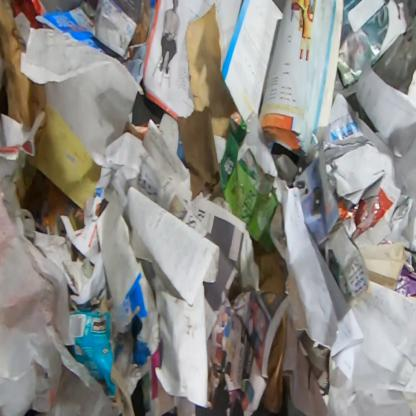cardboard: (217, 108, 279, 242), (69, 296, 136, 416), (185, 3, 237, 138), (0, 0, 46, 131), (33, 0, 108, 55), (260, 309, 288, 415), (92, 0, 140, 61), (250, 235, 288, 295)
soft_plastic: (0, 189, 124, 415), (341, 186, 395, 242), (128, 0, 150, 47)
